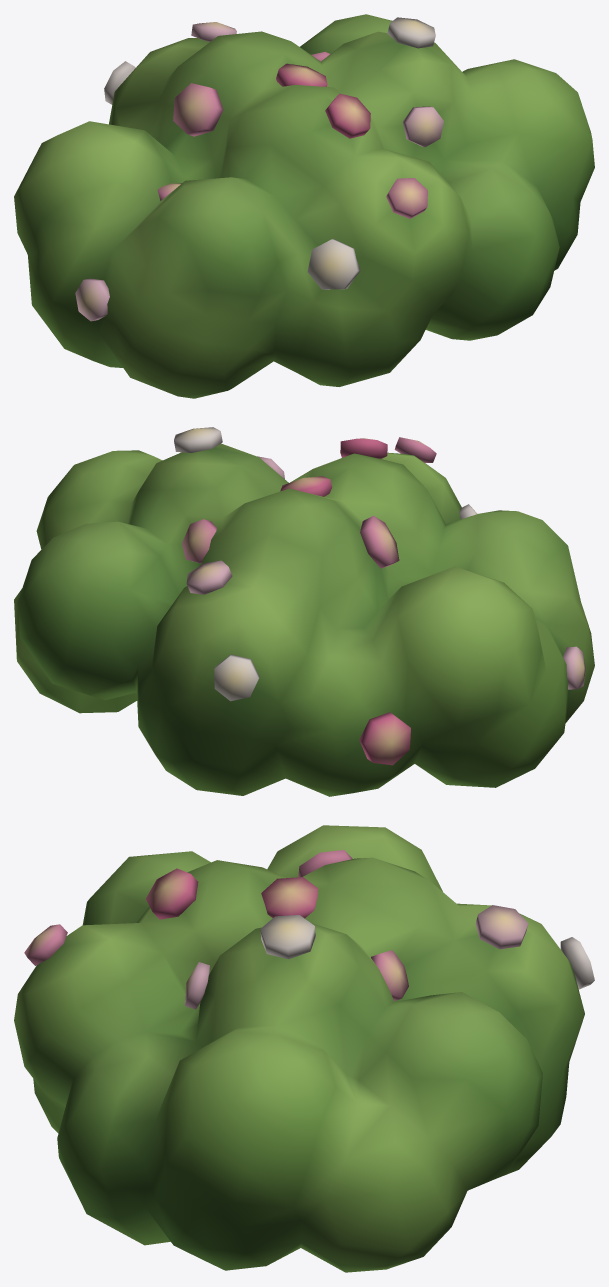
The model's file is bush-b-spring.glb.
The picture shows the model from 3 angles, top to bottom: view 1: azimuth 30°, elevation 25°; view 2: azimuth 150°, elevation 25°; view 3: azimuth 270°, elevation 25°; orthographic projection. The views are drawn at different scales.
Parts seen in each view (by area): view 1: bush-b-spring; view 2: bush-b-spring; view 3: bush-b-spring.
Part boxes in pixels (box(x1,y1,x2,y2)): bush-b-spring: box(14, 14, 594, 398); bush-b-spring: box(14, 427, 594, 796); bush-b-spring: box(14, 825, 594, 1272).
Bounding box in the file's own units: 1.34 × 0.6649 × 1.12.
